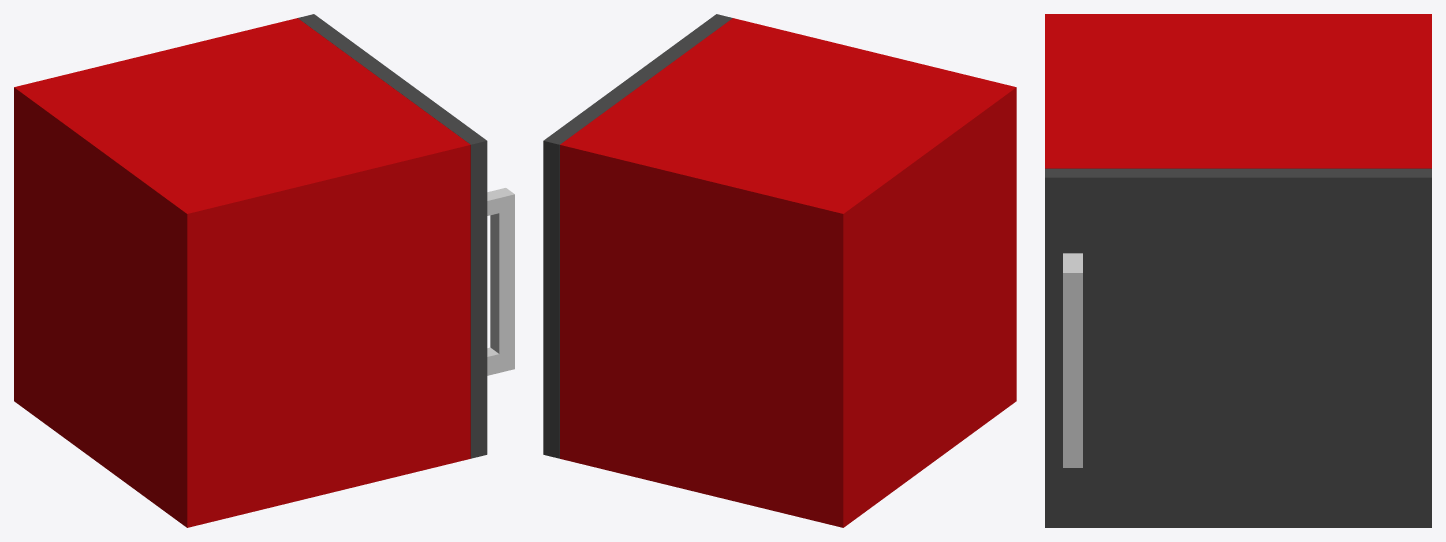
The model's file is cupboard.fbx.
3 views of the same model, side by side, from view 1: azimuth 30°, elevation 25°; view 2: azimuth 150°, elevation 25°; view 3: azimuth 270°, elevation 25° (orthographic). The views are drawn at different scales.
Parts seen in each view (by area): view 1: Cube, Cube.001, Cube.002; view 2: Cube, Cube.001; view 3: Cube.001, Cube, Cube.002.
Part boxes in pixels (<box>): Cube: <box>14,18,470,527</box>; Cube.001: <box>298,14,487,458</box>; Cube.002: <box>487,188,514,375</box>; Cube: <box>560,18,1016,527</box>; Cube.001: <box>543,14,732,458</box>; Cube.001: <box>1045,168,1431,527</box>; Cube: <box>1045,14,1431,168</box>; Cube.002: <box>1063,253,1082,467</box>.
Bounding box in the file's own units: 224 × 200 × 200.
